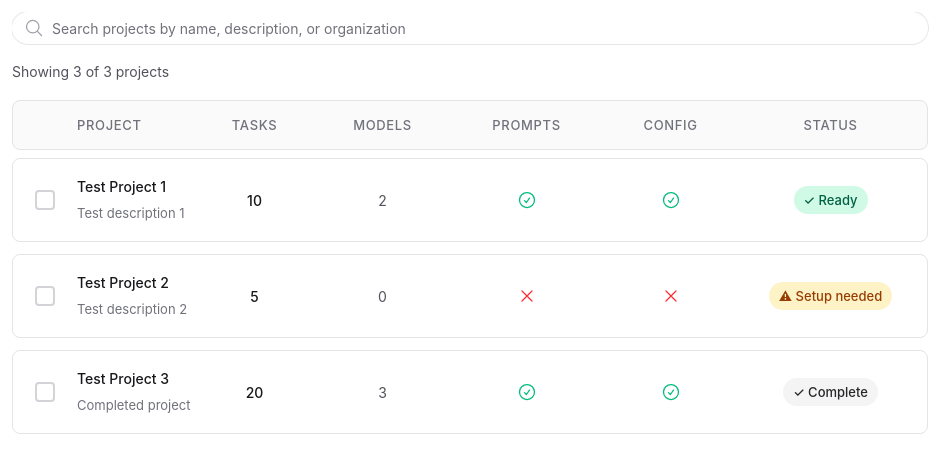
Test case: ProjectSelector › Search Functionality › should show empty state when no results
The image size is (946, 451).
Type "nonexistent" into the search field with placeholder "Search projects by name, description, or organization". click: point(470, 28)
box: top-left (12, 12), bottom-right (928, 44)
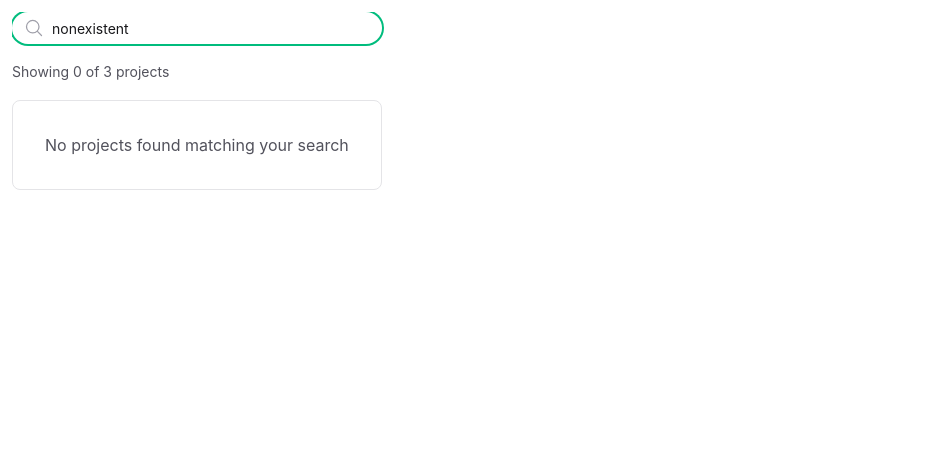
Expected: the text "No projects found matching your search" is shown, top-left (45, 133), bottom-right (349, 157)
